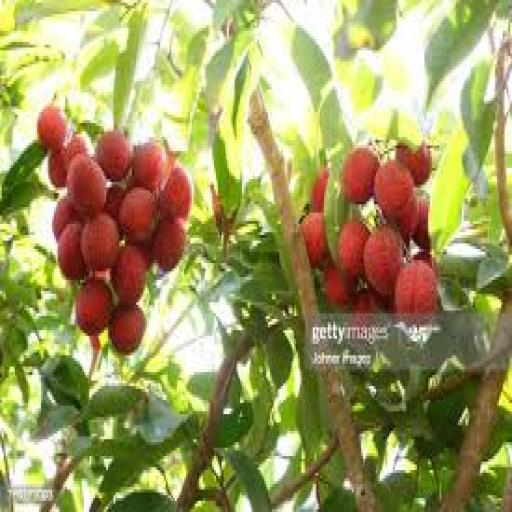lychee: (364, 227, 402, 296), (68, 154, 106, 215), (375, 160, 413, 221), (81, 213, 119, 271), (75, 277, 113, 335), (395, 261, 437, 313), (343, 146, 379, 204), (112, 247, 147, 304), (120, 188, 156, 243), (337, 219, 370, 279), (95, 129, 132, 181), (159, 166, 193, 221), (108, 305, 145, 355), (151, 219, 186, 271), (133, 143, 167, 193), (58, 222, 87, 279), (395, 143, 431, 187), (300, 213, 327, 268), (38, 104, 67, 151), (53, 196, 81, 240), (323, 266, 350, 310), (395, 196, 418, 240), (414, 199, 430, 251), (64, 135, 89, 167), (105, 185, 126, 223), (311, 168, 329, 212), (352, 289, 383, 313), (49, 152, 67, 187), (414, 250, 437, 274)
